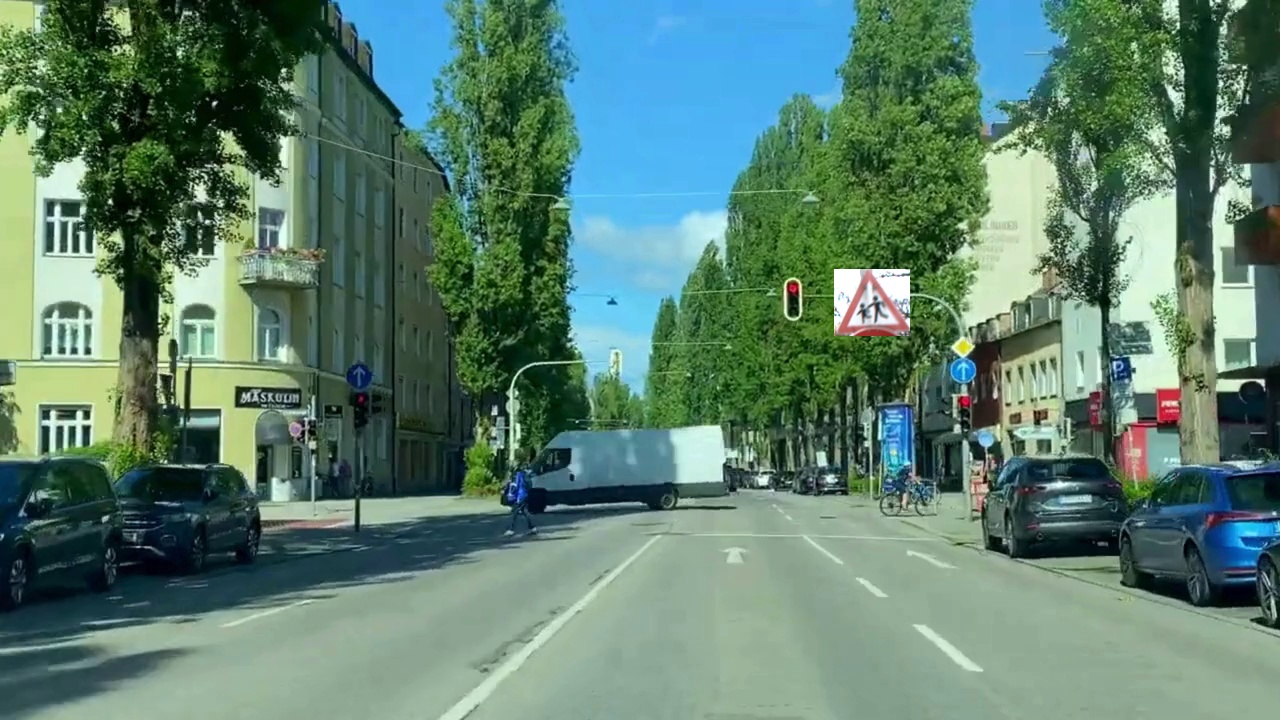Children: (834, 269, 910, 336)
